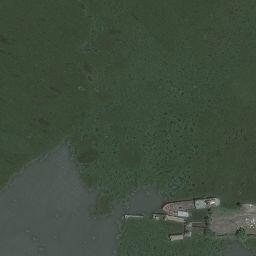tree: (234, 227, 245, 238)
